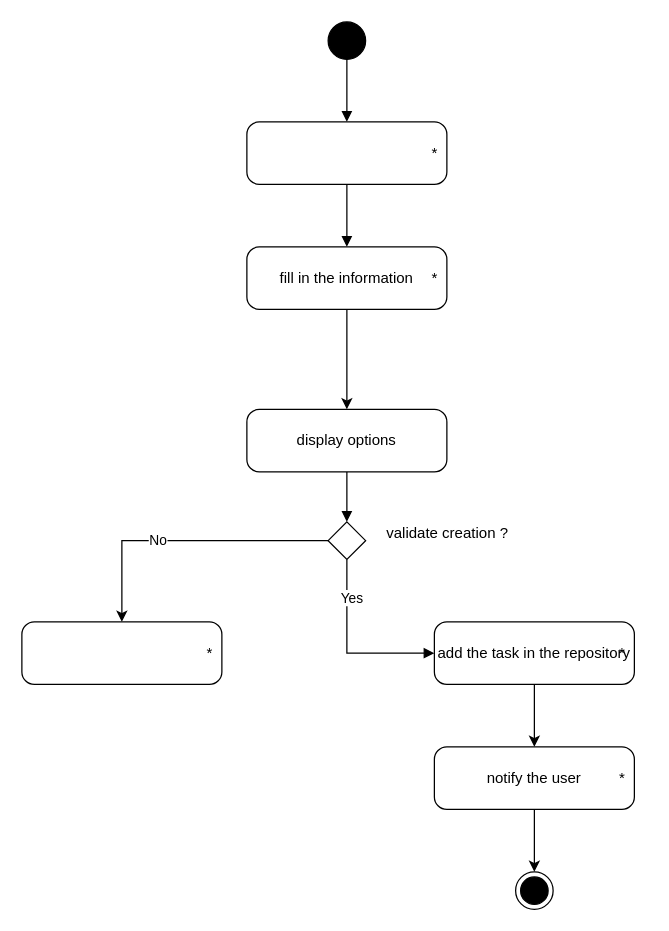
This 669x931 diagram has some shape labels left out. Each missing label, with the centre of its shape:
"cancel" belongs at point (121, 652).
"create a task" belongs at point (346, 152).
